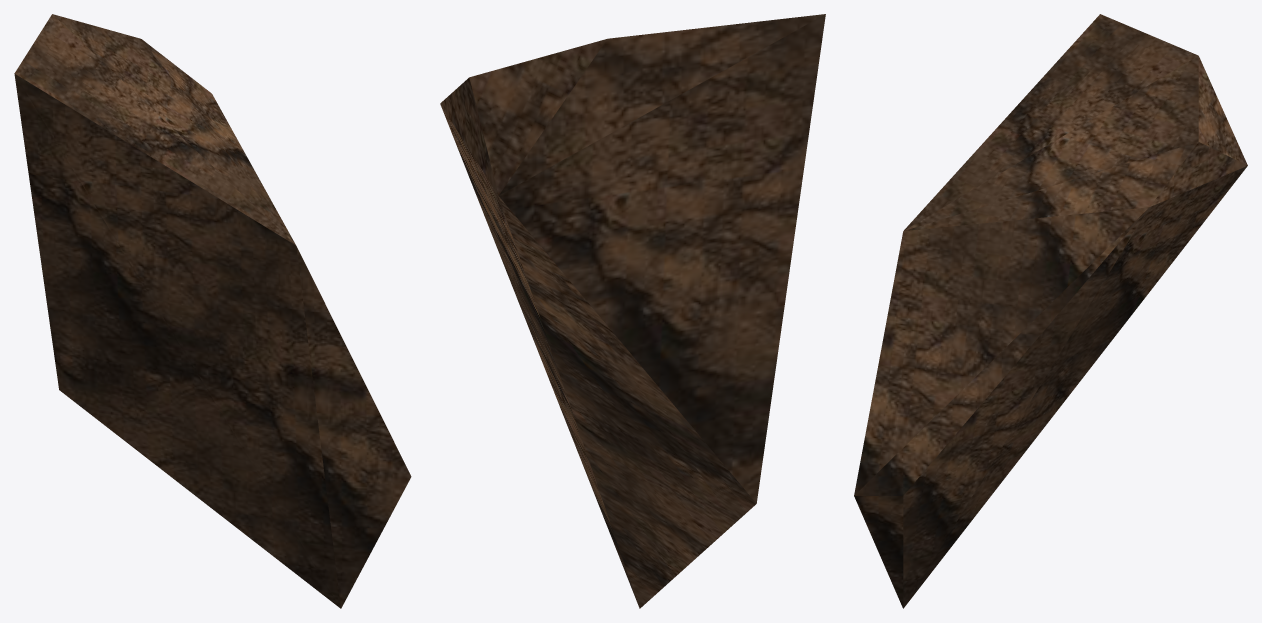
The model's file is rocks_misc_03.obj.
3 views of the same model, side by side, from view 1: azimuth 30°, elevation 25°; view 2: azimuth 150°, elevation 25°; view 3: azimuth 270°, elevation 25° (orthographic). The views are drawn at different scales.
Visible parts, largest first — view 1: mat0model0surf3, mat0model0surf4, mat0model0surf2, mat0model0surf10, mat0model0surf13, mat0model0surf12; view 2: mat0model0surf7, mat0model0surf5, mat0model0surf11, mat0model0surf14, mat0model0surf6, mat0model0surf15; view 3: mat0model0surf8, mat0model0surf10, mat0model0surf6, mat0model0surf0, mat0model0surf13, mat0model0surf12, mat0model0surf9, mat0model0surf1, mat0model0surf15, mat0model0surf14.
Part boxes in pixels (x1,y1,x2,y2): mat0model0surf3: [15, 74, 340, 608]; mat0model0surf4: [14, 74, 340, 608]; mat0model0surf2: [296, 246, 411, 608]; mat0model0surf10: [14, 14, 294, 244]; mat0model0surf13: [52, 14, 295, 244]; mat0model0surf12: [142, 39, 295, 244]; mat0model0surf7: [499, 14, 825, 503]; mat0model0surf5: [499, 197, 756, 608]; mat0model0surf11: [499, 14, 825, 195]; mat0model0surf14: [469, 39, 606, 195]; mat0model0surf6: [440, 104, 638, 604]; mat0model0surf15: [440, 77, 498, 194]; mat0model0surf8: [854, 207, 1148, 495]; mat0model0surf10: [904, 14, 1198, 230]; mat0model0surf6: [904, 166, 1247, 607]; mat0model0surf0: [903, 208, 1148, 608]; mat0model0surf13: [904, 56, 1198, 230]; mat0model0surf12: [904, 142, 1198, 230]; mat0model0surf9: [854, 209, 1147, 495]; mat0model0surf1: [854, 496, 903, 608]; mat0model0surf15: [1150, 142, 1247, 206]; mat0model0surf14: [1198, 56, 1247, 165].
Size of the model in its own units: 96 by 176 by 128.
